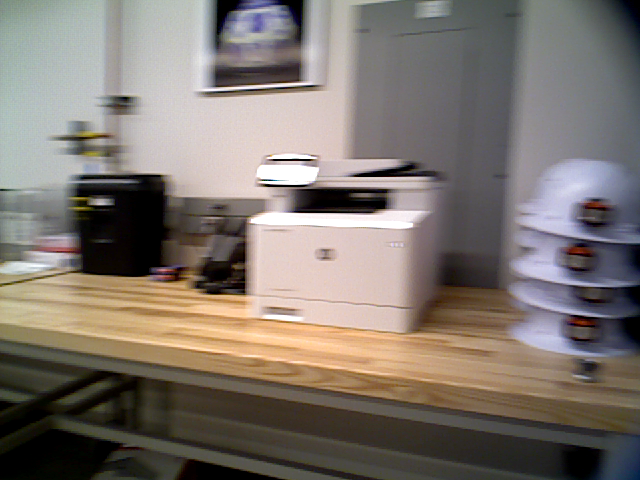painting2: (190, 1, 326, 99)
